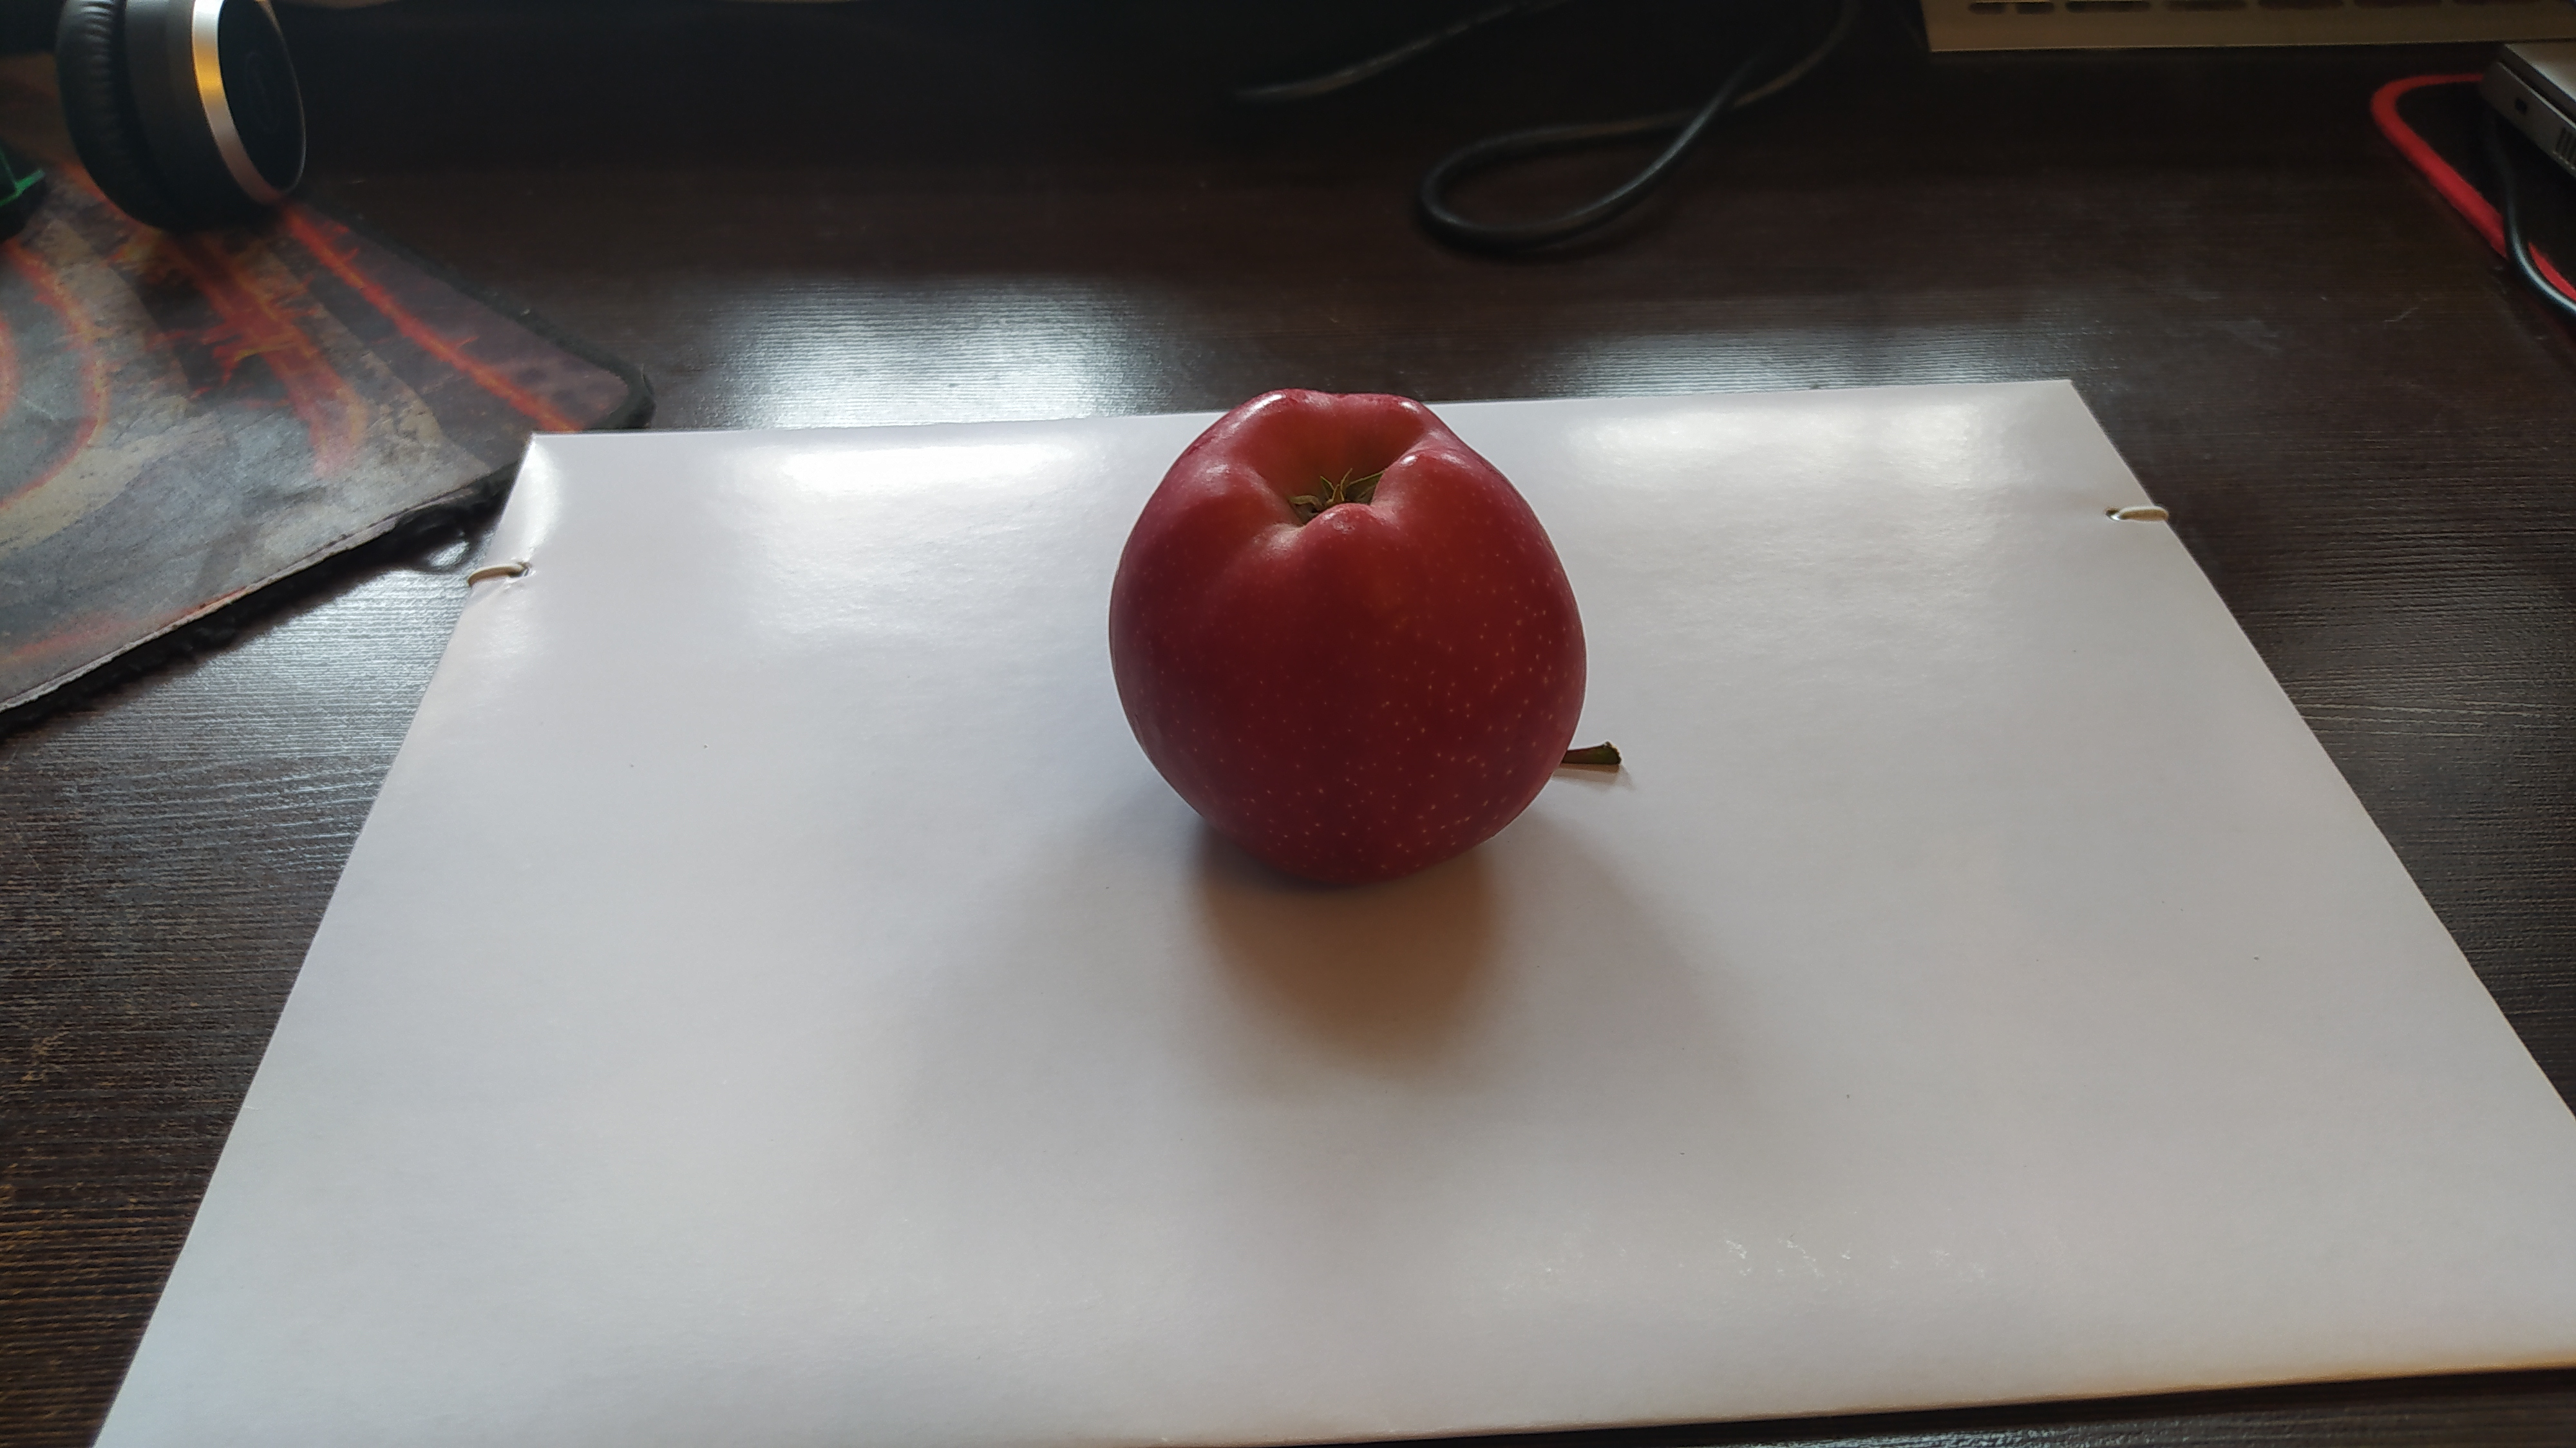apple: (1106, 386, 1591, 897)
